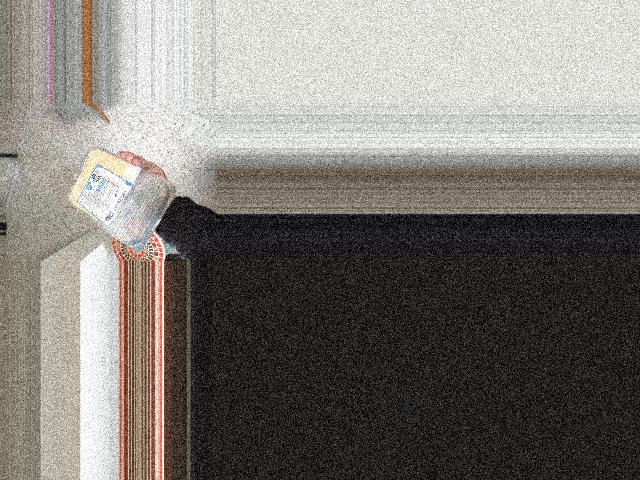cheese: (60, 158, 169, 248)
